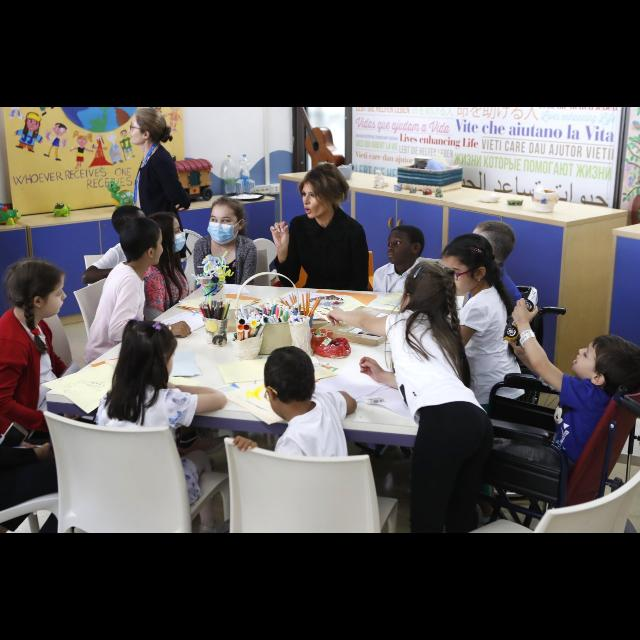head: (264, 346, 316, 422), (7, 260, 69, 318), (440, 232, 494, 296), (122, 321, 178, 381), (399, 260, 455, 320), (119, 218, 165, 266), (471, 222, 517, 266), (302, 168, 340, 220), (146, 212, 184, 256), (210, 200, 247, 244), (387, 225, 425, 267), (128, 107, 168, 145), (112, 205, 148, 241)
person: (424, 233, 528, 512), (84, 216, 194, 454), (269, 162, 371, 418), (436, 219, 536, 455), (135, 208, 233, 432), (81, 206, 185, 410), (126, 107, 194, 361), (192, 196, 260, 400), (372, 225, 446, 389)
